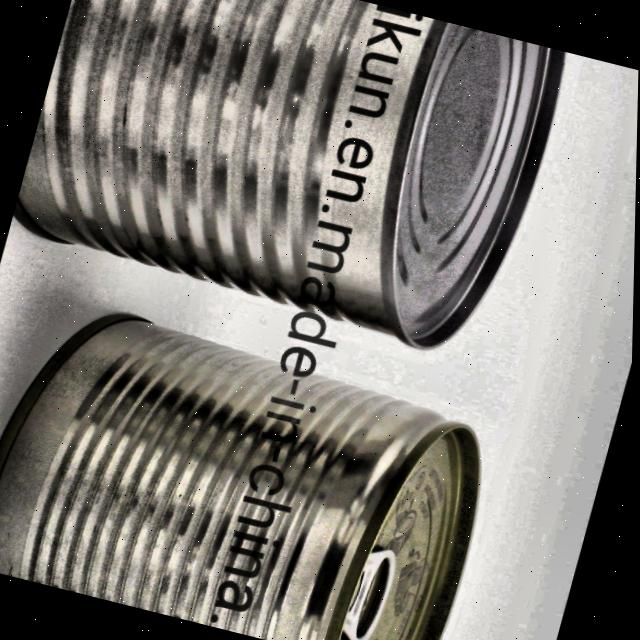metal: (1, 0, 579, 374), (0, 281, 520, 640)
